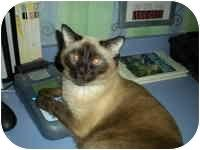siamese: (54, 21, 125, 98)
